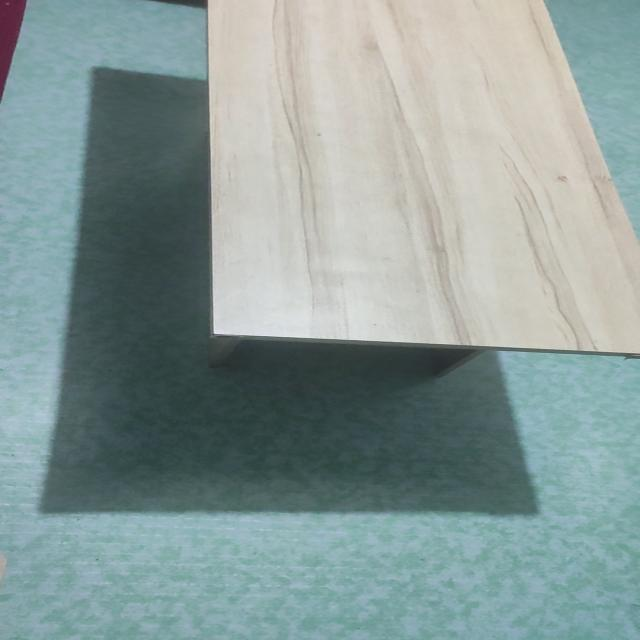table: (202, 0, 640, 386)
